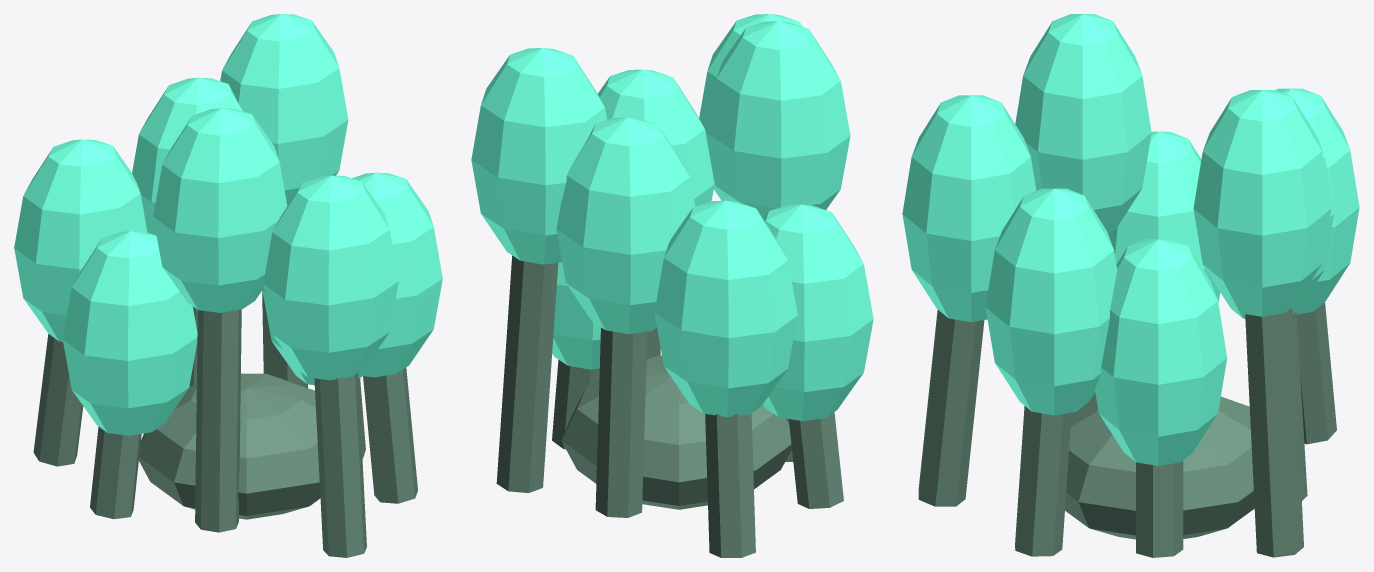
Rendered from lumemoss-ready-for-transplant.glb.
3 renders of one model, left to right at view 1: azimuth 30°, elevation 25°; view 2: azimuth 150°, elevation 25°; view 3: azimuth 270°, elevation 25°, orthographic. The views are drawn at different scales.
Visible parts, largest first — view 1: lumemoss.sway-pivot; view 2: lumemoss.sway-pivot; view 3: lumemoss.sway-pivot.
Part boxes in pixels (x1,y1,x2,y2): lumemoss.sway-pivot: (14, 14, 442, 557); lumemoss.sway-pivot: (471, 14, 873, 557); lumemoss.sway-pivot: (902, 14, 1359, 557).
Size of the model in its own units: 0.5624 by 0.7344 by 0.6354.
